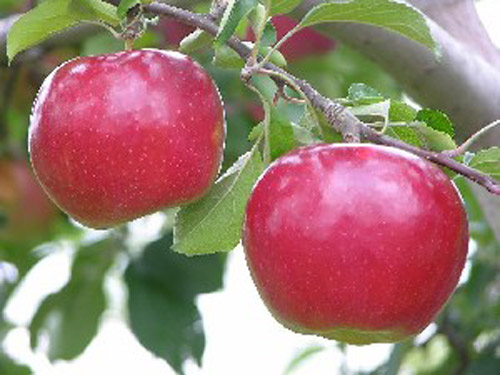apple: (240, 138, 471, 348), (27, 45, 228, 231)
